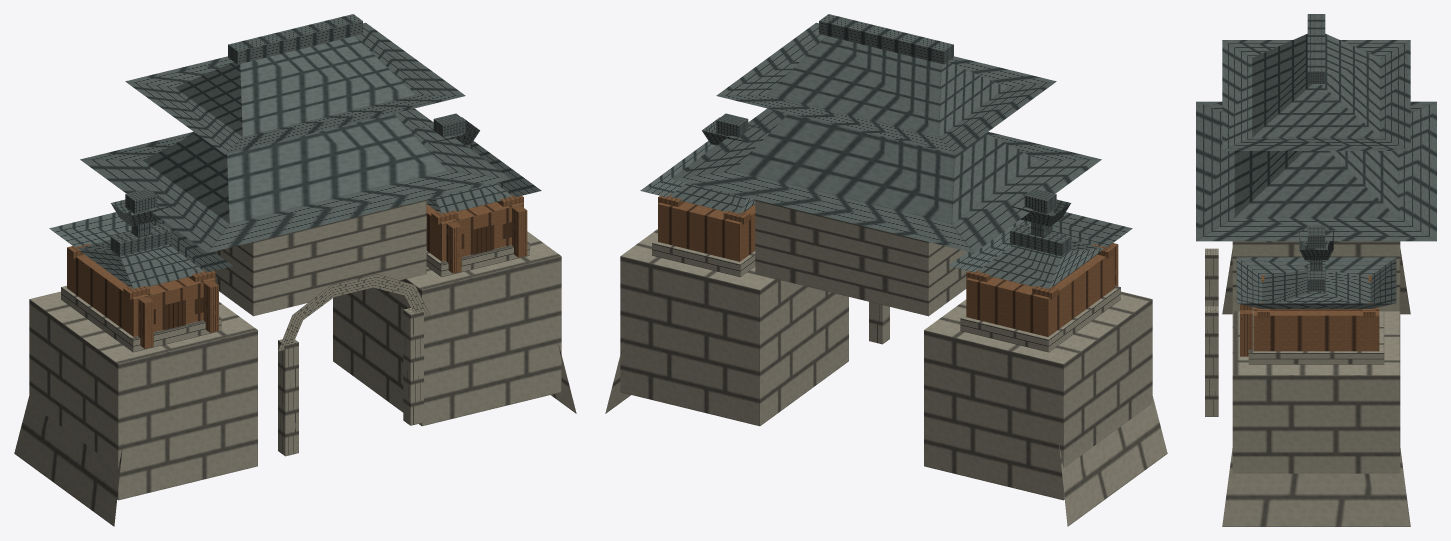
The model's file is gate-lod1.glb.
3 renders of one model, left to right at view 1: azimuth 30°, elevation 25°; view 2: azimuth 150°, elevation 25°; view 3: azimuth 270°, elevation 25°, orthographic. The views are drawn at different scales.
Bounding box in the file's own units: 0.96 × 0.796 × 0.46.
Materials: 1 (1 with a texture image).
